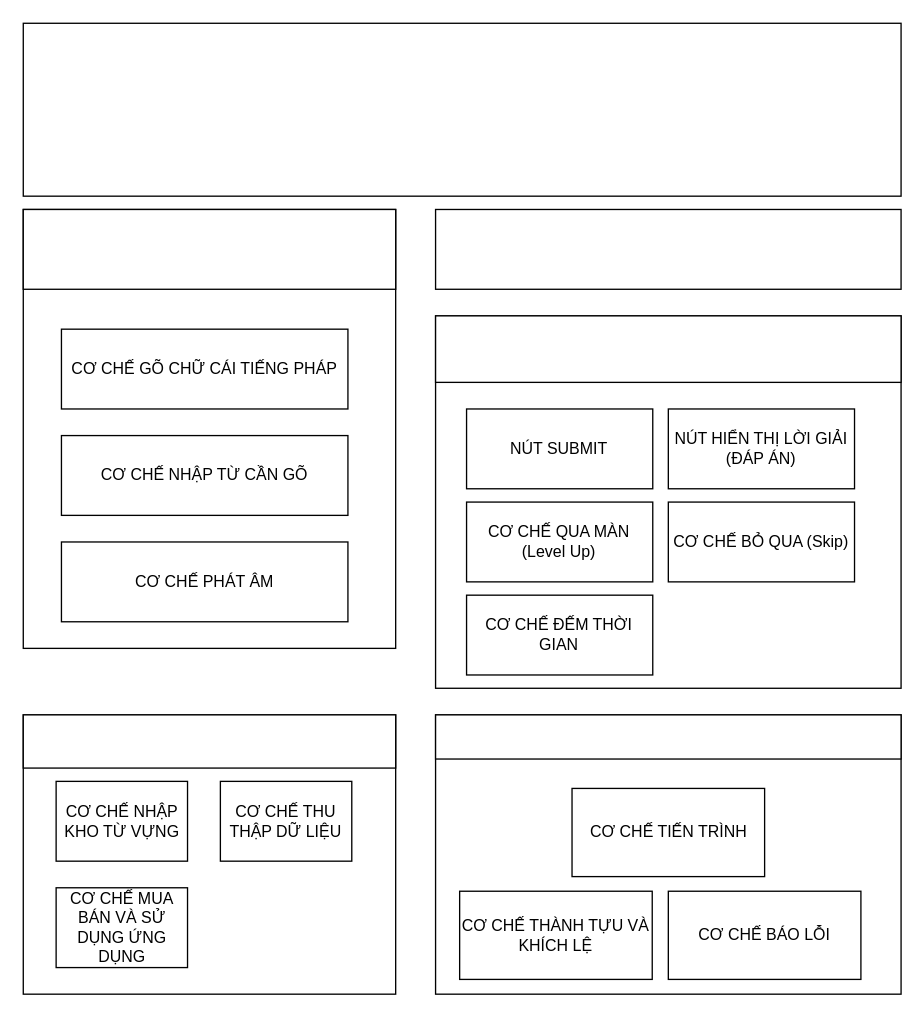
The diagram is 924 pixels wide and 1017 high, and some of its shapes have lost their labels. Here are the shapes that lost their labels. From the top down, the box of each, then its label:
(22, 22, 901, 196): TOÀN BỘ CƠ CHẾ
(22, 208, 396, 289): CƠ CHẾ NHẬP VÀ GÕ CHỮ [CHẮC CHẮN PHẢI CÓ]
(434, 208, 901, 289): CƠ CHẾ LỰA CHỌN NHÓM TỪ VỰNG ĐỂ HỌC
(434, 315, 901, 382): NHÓM CƠ CHẾ LIÊN QUAN TỚI VIỆC HOÀN THÀNH BÀI HỌC
(22, 714, 396, 768): NHÓM CƠ CHẾ MÀ CHỈ MÌNH DÙNG (KHÁCH HÀNG KHÔNG LIÊN QUAN)
(434, 714, 901, 759): NHÓM CƠ CHẾ KHEN THƯỞNG, BÁO LỖI
